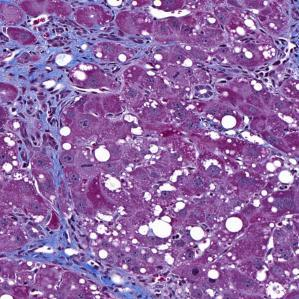fibrosis: (0, 13, 88, 109), (22, 137, 83, 266), (100, 260, 144, 299)
